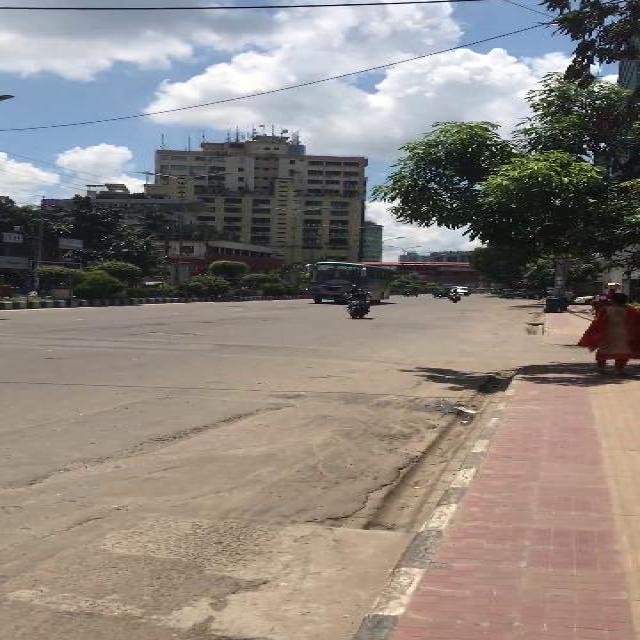bus: (300, 259, 393, 303)
minivan: (455, 286, 469, 294)
motorbike: (343, 287, 372, 319), (447, 288, 460, 302)
three wheelers -CNG-: (400, 284, 418, 296), (433, 286, 449, 298), (498, 288, 516, 298)
